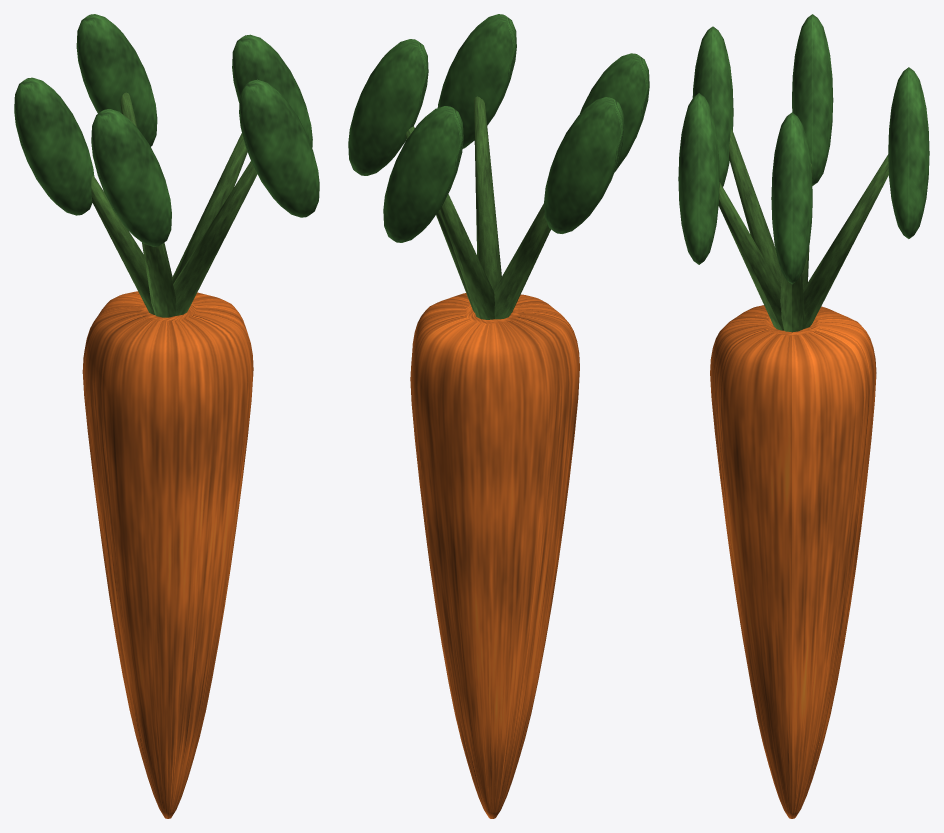
File: carrot.glb
3 views of the same model, side by side, from view 1: azimuth 30°, elevation 25°; view 2: azimuth 150°, elevation 25°; view 3: azimuth 270°, elevation 25° (orthographic). The views are drawn at different scales.
Visible parts, largest first — view 1: carrot, leaf, stem; view 2: carrot, leaf, stem; view 3: carrot, leaf, stem.
Part boxes in pixels (x1,y1,x2,y2): carrot: [82, 291, 253, 818]; leaf: [14, 14, 319, 246]; stem: [91, 92, 257, 317]; carrot: [410, 293, 579, 818]; leaf: [348, 14, 649, 242]; stem: [405, 96, 550, 319]; carrot: [710, 305, 876, 818]; leaf: [678, 14, 929, 284]; stem: [718, 129, 888, 332].
Size of the model in its own units: 0.0928 by 0.2371 by 0.0729.
3 materials, 3 textured.
